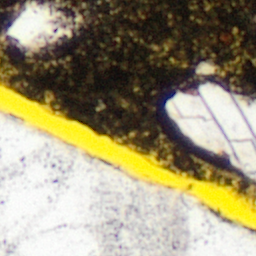cement_matrix: (0, 0, 255, 192), (3, 0, 77, 53), (197, 62, 216, 77)
cracks: (0, 76, 255, 234)
gravel_crushed_stones: (0, 111, 255, 255), (170, 86, 255, 177), (4, 1, 76, 52), (198, 63, 215, 76)
